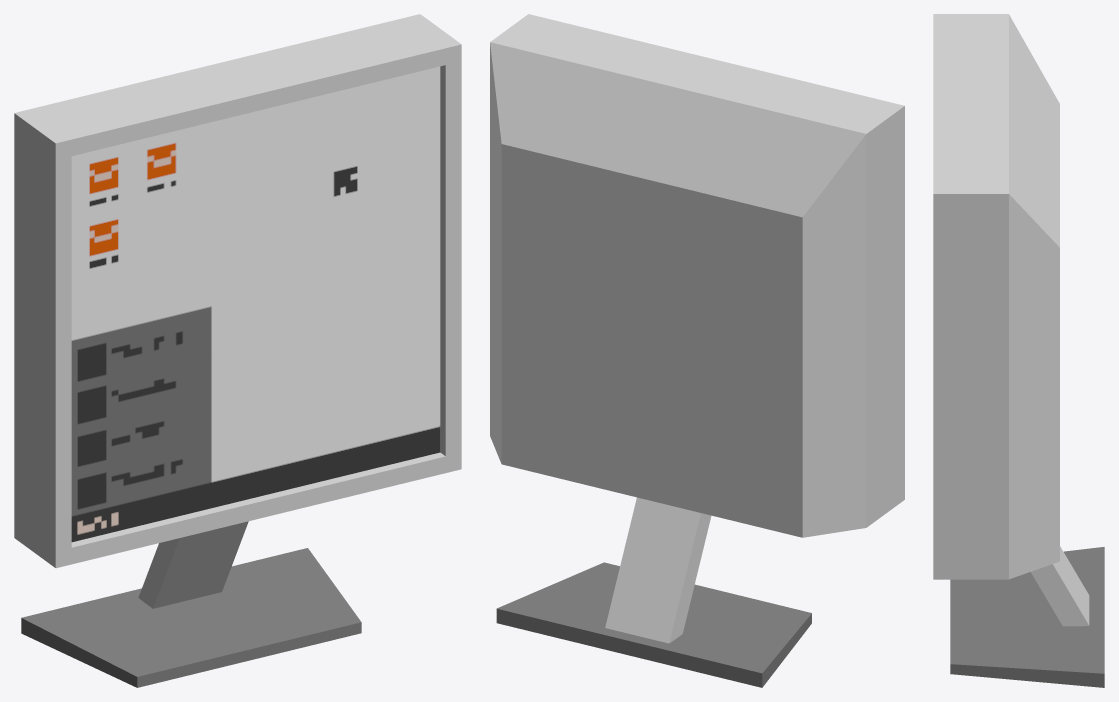
Rendered from Computer_Monitor.fbx.
The picture shows the model from 3 angles, left to right: view 1: azimuth 30°, elevation 25°; view 2: azimuth 150°, elevation 25°; view 3: azimuth 270°, elevation 25°; orthographic projection. The views are drawn at different scales.
Visible parts, largest first — view 1: Computer_Monitor; view 2: Computer_Monitor; view 3: Computer_Monitor.
Boxes of the visible parts, <box> form: Computer_Monitor: <box>14,14,461,687</box>; Computer_Monitor: <box>490,14,904,687</box>; Computer_Monitor: <box>933,14,1104,687</box>.
Bounding box in the file's own units: 40 × 53.99 × 16.08.
